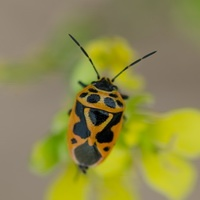insect: (67, 34, 156, 172)
